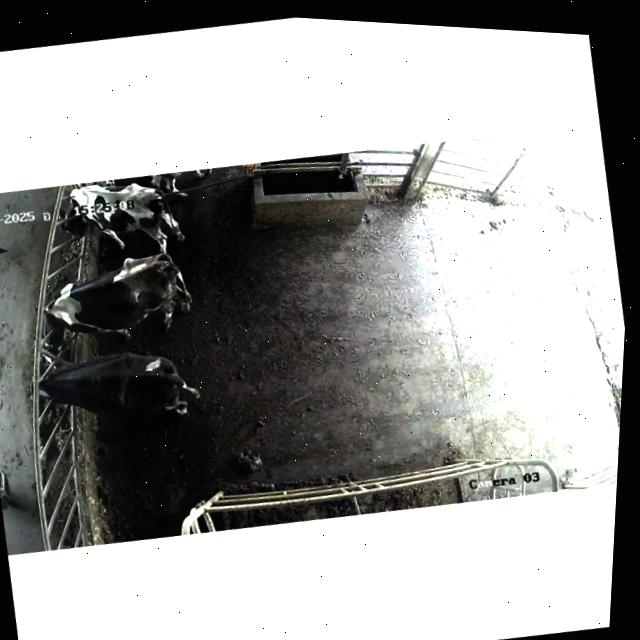eat: (25, 176, 133, 260), (13, 268, 113, 352), (2, 349, 106, 425)
